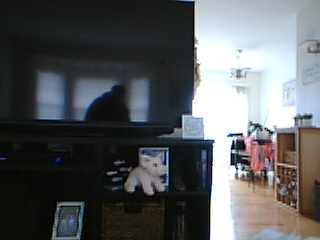piggy: (124, 151, 167, 197)
